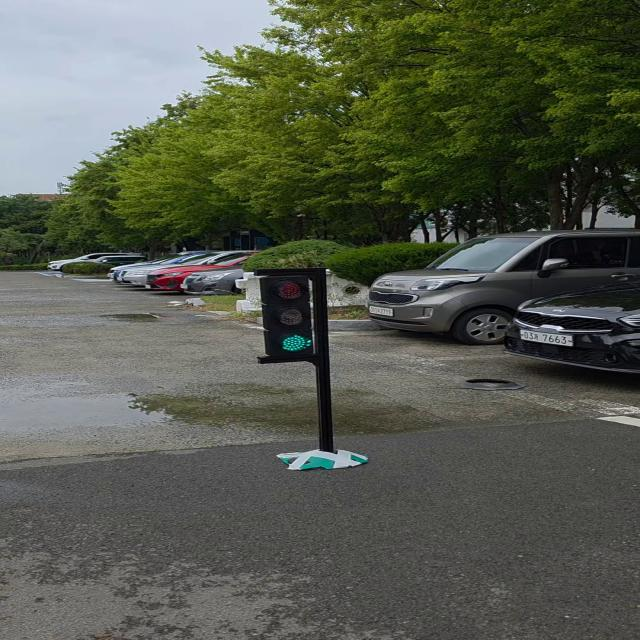green: (264, 272, 326, 358)
